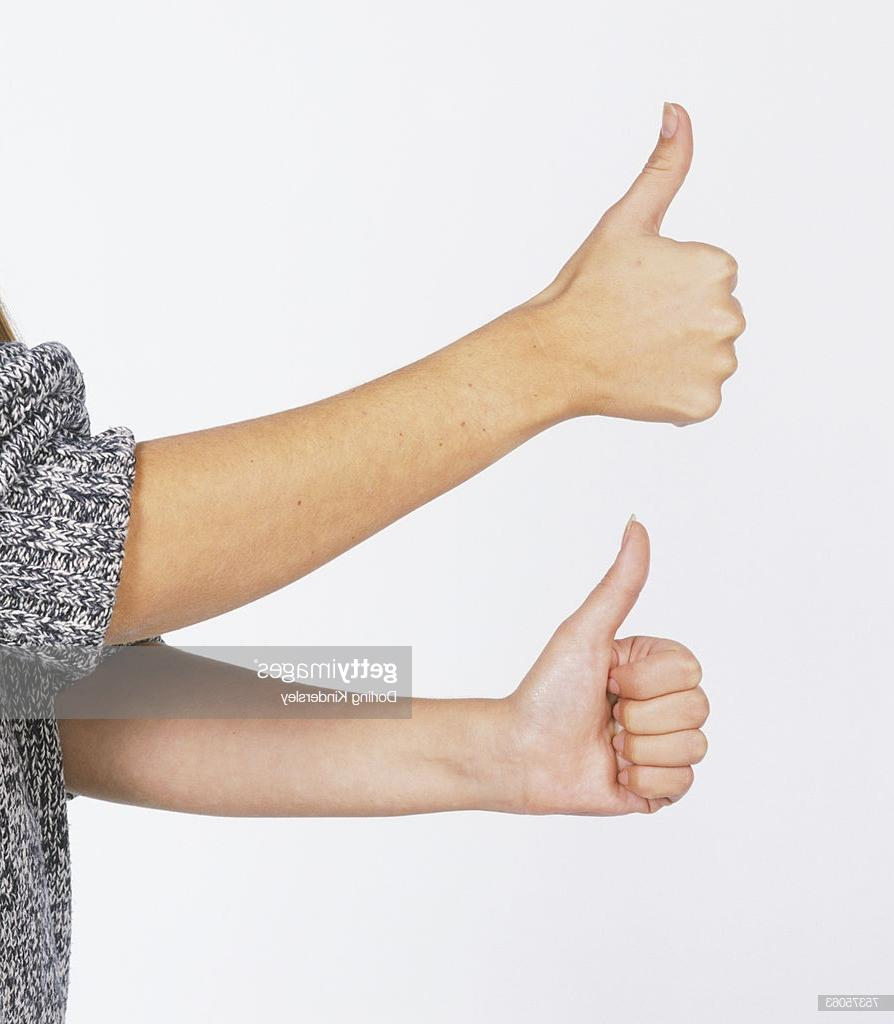thumbsup: (603, 100, 747, 422), (567, 514, 710, 816)
